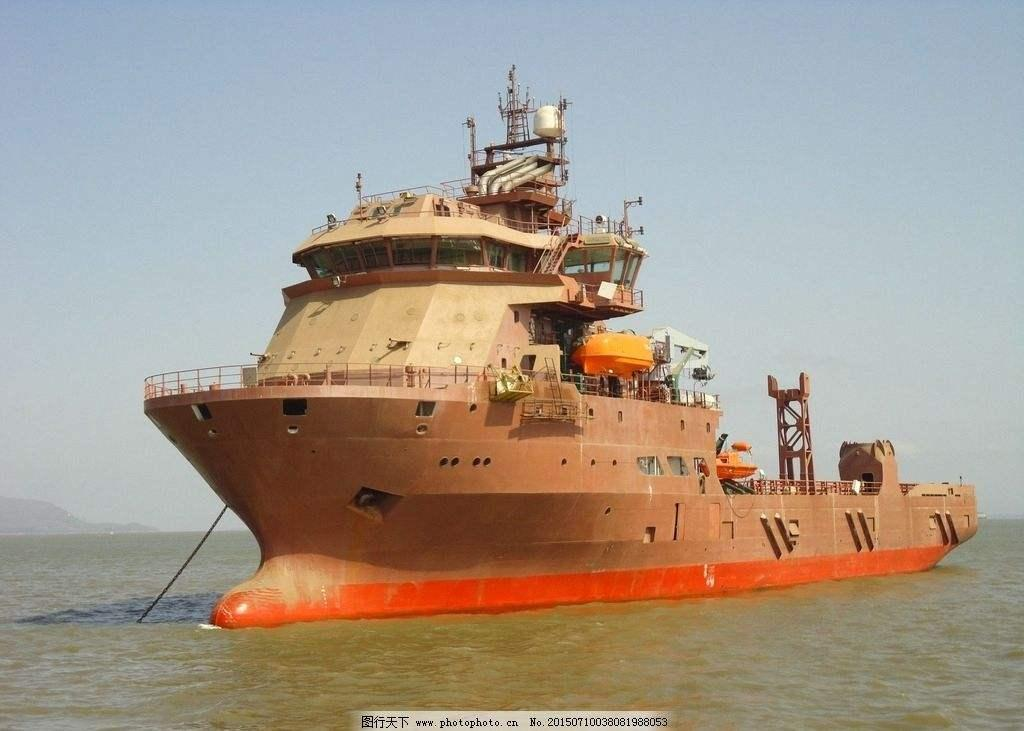Cargoship: (124, 67, 1006, 631)
